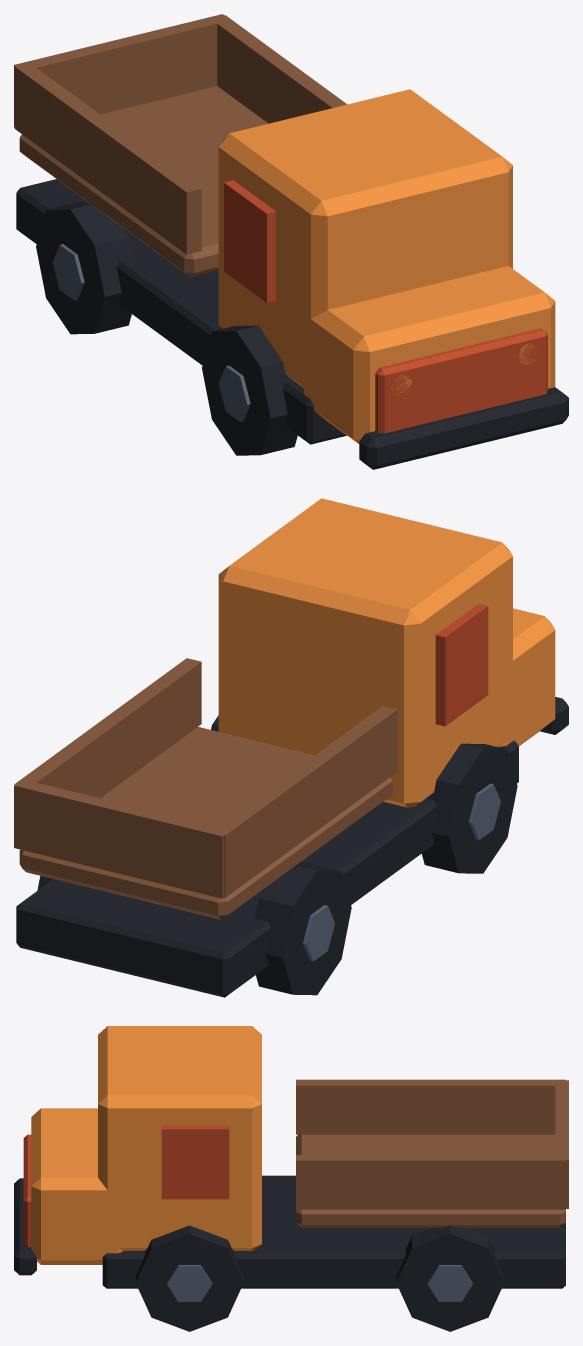
Rendered from SM_Vehicle_CargoTruck.fbx.
3 renders of one model, top to bottom at view 1: azimuth 30°, elevation 25°; view 2: azimuth 150°, elevation 25°; view 3: azimuth 270°, elevation 25°, orthographic. The views are drawn at different scales.
Parts seen in each view (by area): view 1: SM_Vehicle_CargoTruck; view 2: SM_Vehicle_CargoTruck; view 3: SM_Vehicle_CargoTruck.
Part boxes in pixels (left/top/right/bottom): SM_Vehicle_CargoTruck: left=14, top=14, right=568, bottom=469; SM_Vehicle_CargoTruck: left=14, top=498, right=568, bottom=997; SM_Vehicle_CargoTruck: left=14, top=1026, right=568, bottom=1331.
Size of the model in its own units: 1.19 by 1.28 by 2.88.
